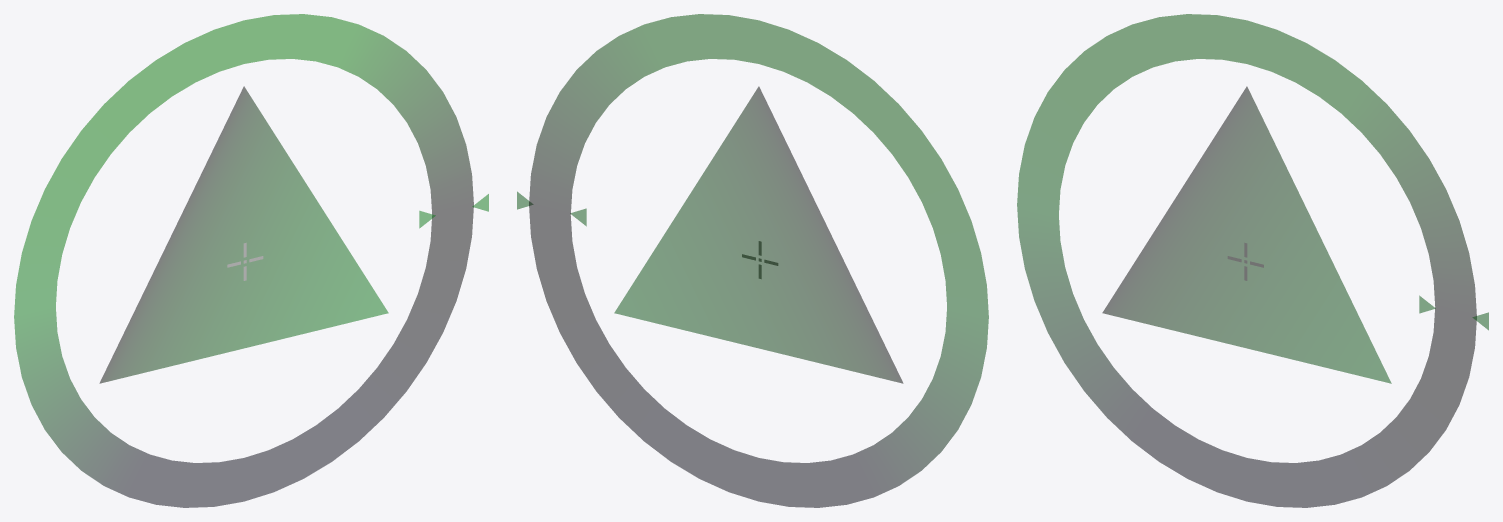
The model's file is ColorPicker.FBX.
3 renders of one model, left to right at view 1: azimuth 30°, elevation 25°; view 2: azimuth 150°, elevation 25°; view 3: azimuth 330°, elevation 25°, orthographic.
Parts seen in each view (by area): view 1: ColorCircle, ColorTriangle; view 2: ColorCircle, ColorTriangle; view 3: ColorCircle, ColorTriangle.
Part boxes in pixels (x1,y1,x2,y2): ColorCircle: (14, 14, 473, 507); ColorTriangle: (99, 86, 388, 383); ColorCircle: (529, 14, 988, 507); ColorTriangle: (614, 86, 903, 383); ColorCircle: (1017, 14, 1476, 507); ColorTriangle: (1102, 86, 1391, 383).
Size of the model in its own units: 113 by 110 by 0.619.
